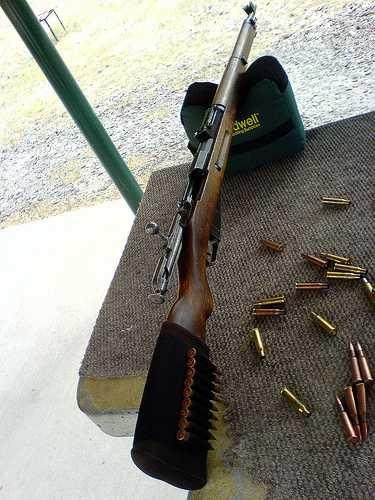heavyweapon: (132, 0, 286, 494)
